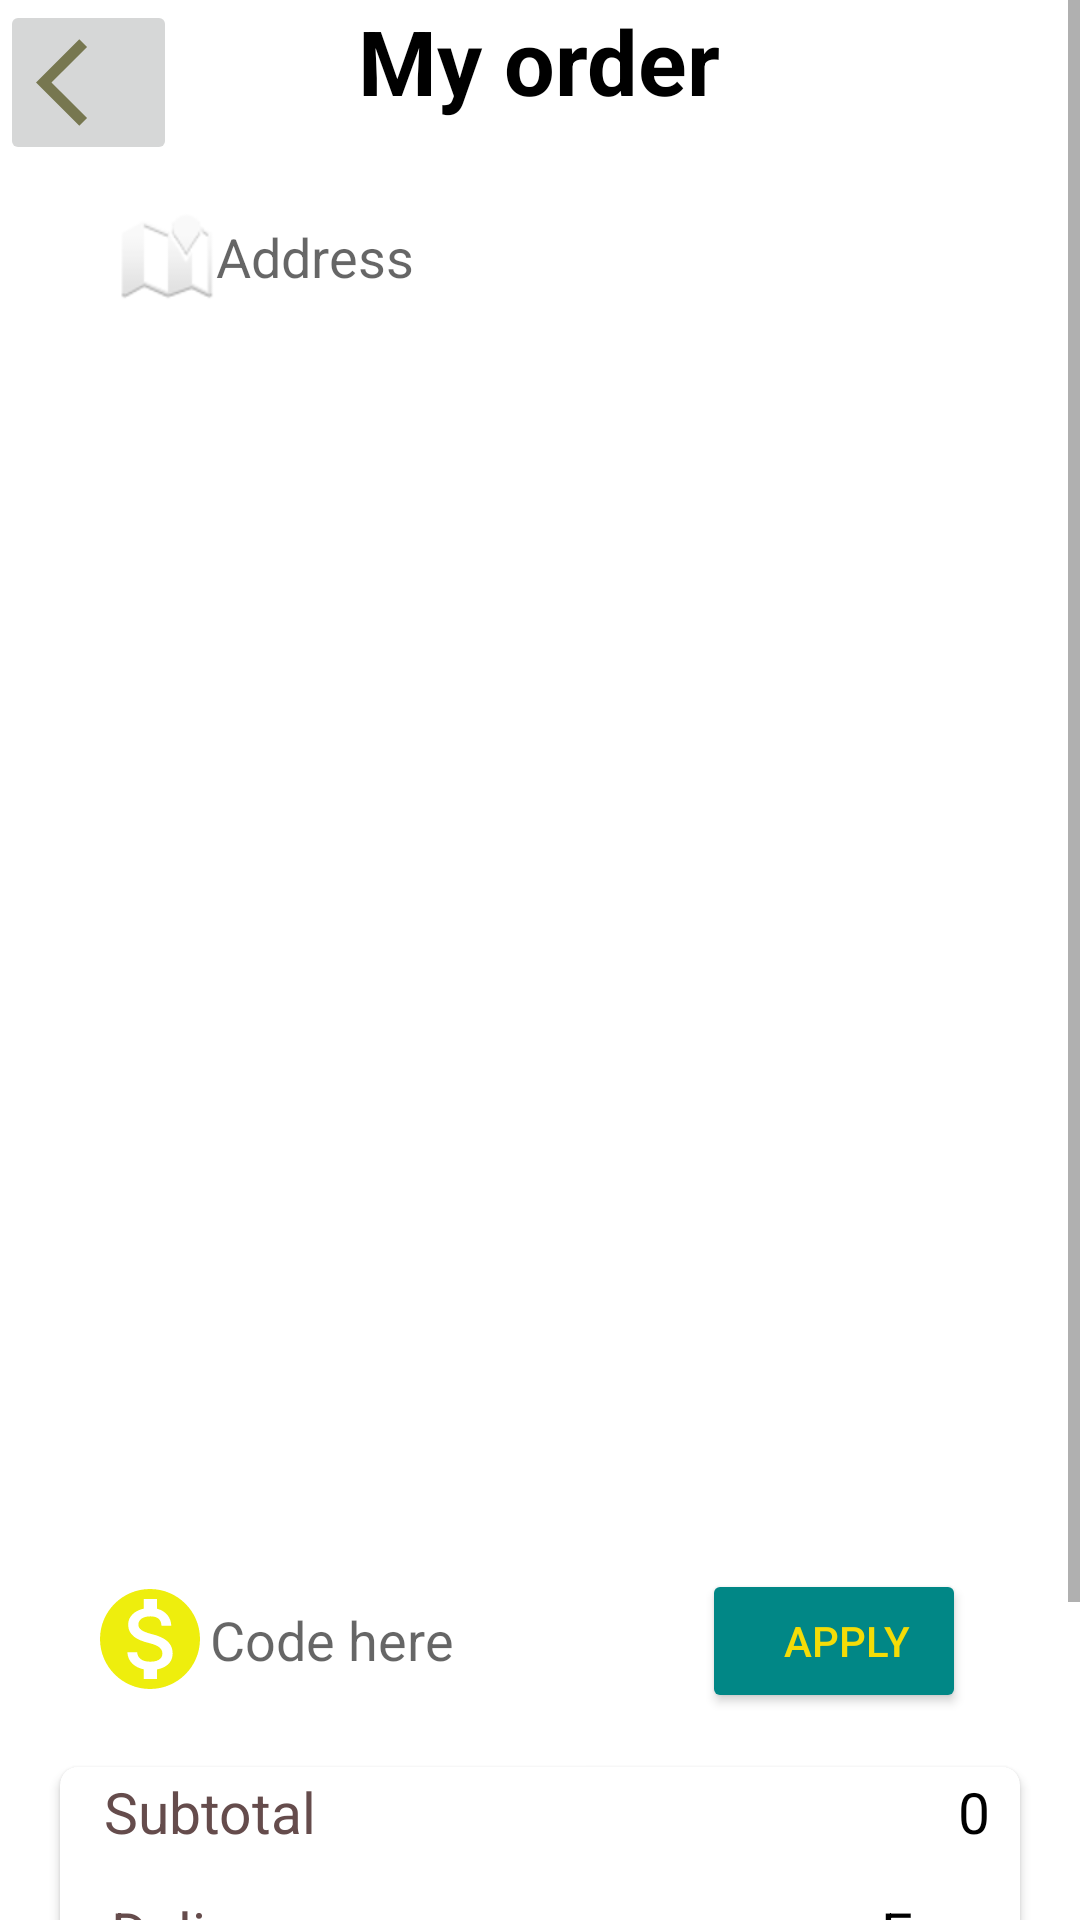

Where icons sit on this 1080×1920 app screen, as (x1, y1, x2, y2):
back: (12, 18, 165, 147)
